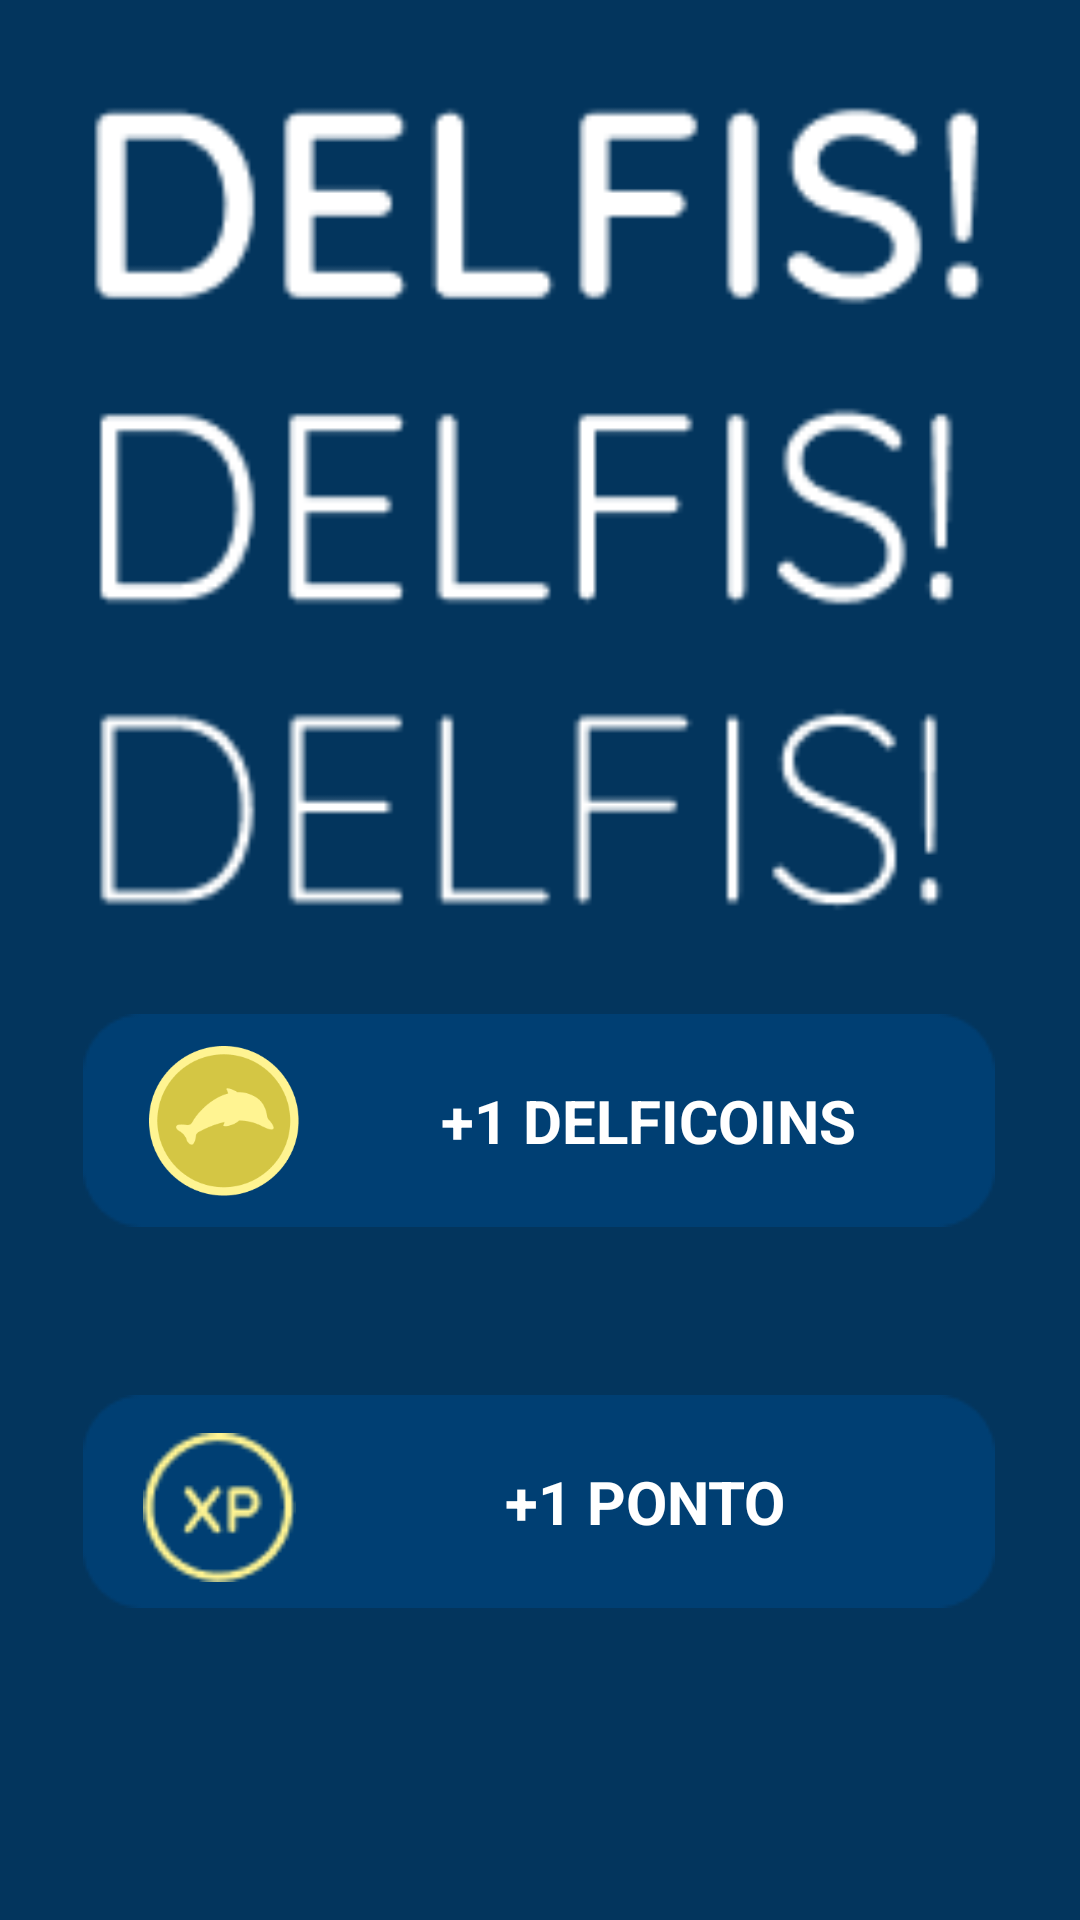

Screen size 1080x1920. Icon name, then its box in pixels as (x1, y1, x2, y2):
moeda: (149, 1046, 299, 1196)
xpicon: (143, 1433, 296, 1582)
